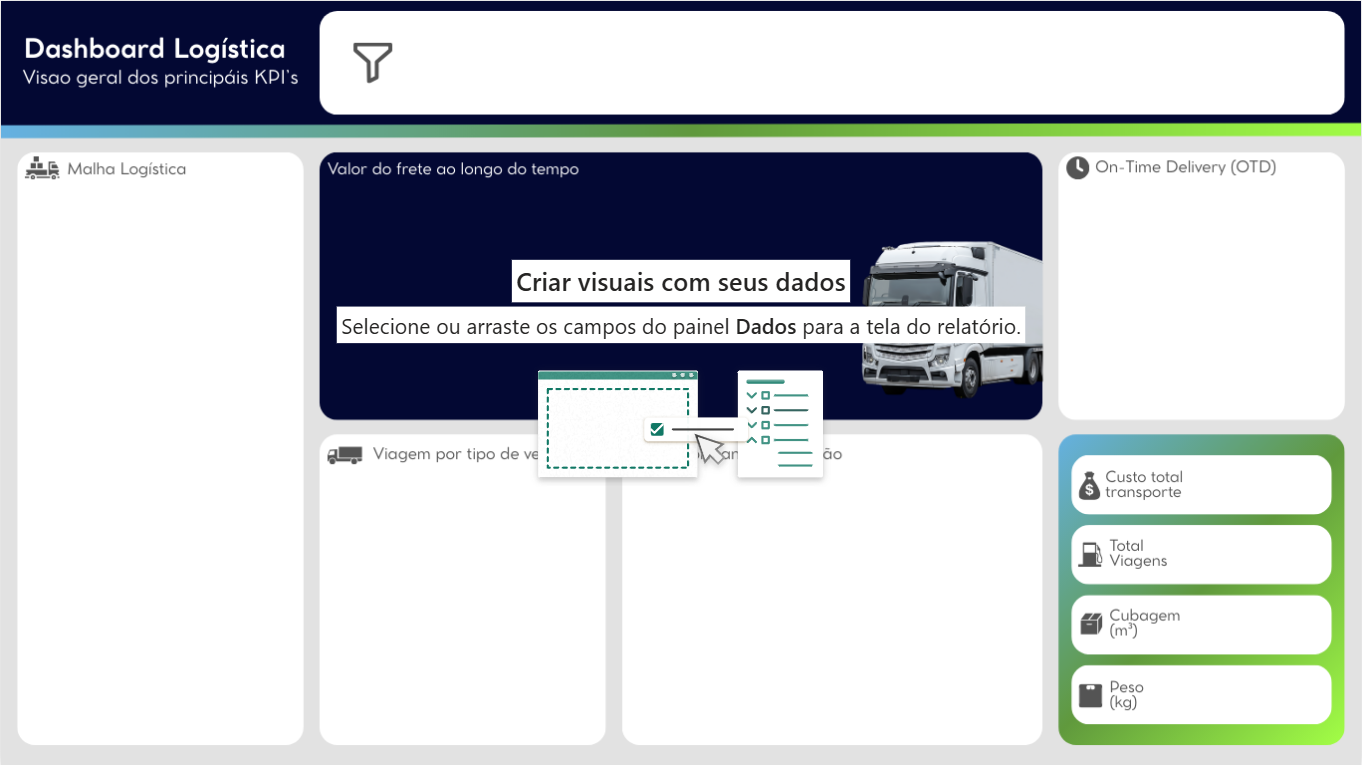

The page's visual inventory and layout, read from the dashboard file:
{"tool":"powerbi","page":{"name":"Página 1","canvas":[1280,720],"ordinal":0},"visuals":[{"type":"lineChart","fields":{"Y":["Sum(Valor do Frete. Valor do Frete )"],"Category":["Histórico Transporte.Data de Entrega.Variation.Hierarquia de datas.Ano","Histórico Transporte.Data de Entrega.Variation.Hierarquia de datas.Trimestre","Histórico Transporte.Data de Entrega.Variation.Hierarquia de datas.Mês","Histórico Transporte.Data de Entrega.Variation.Hierarquia de datas.Dia"]},"box":[312.9,165.6,506.8,229.4],"z":0},{"type":"barChart","fields":{"Y":["CountNonNull(Valor do Frete.Load)"],"Category":["Valor do Frete.Tipo de Veículo"]},"box":[301.8,429.5,265,266.3],"z":1000},{"type":"card","fields":{"Values":["Sum(Valor do Frete. Valor do Frete )"]},"box":[1100.6,429.5,159.5,50.3],"z":2000},{"type":"card","fields":{"Values":["Sum(Histórico Transporte.Cubagem (m³))"]},"box":[1100.6,562,159.5,50.3],"z":3000},{"type":"card","fields":{"Values":["Sum(Histórico Transporte.Peso Bruto (kg))"]},"box":[1100.6,627,159.5,50.3],"z":4000},{"type":"card","fields":{"Values":["Histórico Transporte.Total Viagens"]},"box":[1100.6,495.7,159.5,50.3],"z":5000},{"type":"gauge","fields":{"Y":["Medidas.% OTD"],"TargetValue":["Medidas.Meta OTD"]},"box":[1002.5,177.9,257.7,206.1],"z":6000},{"type":"hundredPercentStackedBarChart","fields":{"Category":["Histórico Transporte.Destino.2"],"Y":["Medidas.Total Viagens"],"Series":["Histórico Transporte.On-Time Delivery"]},"box":[593.9,442.9,371.8,240.5],"z":7000},{"type":"map","fields":{"Category":["Histórico Transporte.Origem-Cidade","Histórico Transporte.Destino.1"]},"box":[18.8,228.8,262.5,455],"z":8000},{"type":"slicer","fields":{"Values":["Histórico Transporte.Origem-Cidade"]},"box":[402.5,22.5,163.8,70],"z":9000},{"type":"slicer","fields":{"Values":["Histórico Transporte.Transportadora"]},"box":[575,22.5,227.5,70],"z":9001},{"type":"slicer","fields":{"Values":["Histórico Transporte.Destino.1"]},"box":[18.8,173.8,262.5,55],"z":9002},{"type":"slicer","fields":{"Values":["Histórico Transporte.Data de Entrega"]},"box":[1031.2,15,220,83.8],"z":9003},{"type":"slicer","fields":{"Values":["Valor do Frete.Tipo Transporte"]},"box":[818.8,22.5,200,70],"z":9004}]}

Visuals, with their boxes on the page's 1280x720 design canvas (x1, y1, x2, y2). These are canvas units, not pixel positions in the 1362x765 screenshot, which may show the page scaled, cropped or inside an application window:
lineChart - Sum(Valor do Frete. Valor do Frete ) x Histórico Transporte.Data de Entrega.Variation.Hierarquia de datas.Ano: {"left": 313, "top": 166, "right": 820, "bottom": 395}
barChart - CountNonNull(Valor do Frete.Load) x Valor do Frete.Tipo de Veículo: {"left": 302, "top": 430, "right": 567, "bottom": 696}
card - Sum(Valor do Frete. Valor do Frete ): {"left": 1101, "top": 430, "right": 1260, "bottom": 480}
card - Sum(Histórico Transporte.Cubagem (m³)): {"left": 1101, "top": 562, "right": 1260, "bottom": 612}
card - Sum(Histórico Transporte.Peso Bruto (kg)): {"left": 1101, "top": 627, "right": 1260, "bottom": 677}
card - Histórico Transporte.Total Viagens: {"left": 1101, "top": 496, "right": 1260, "bottom": 546}
gauge - Medidas.% OTD x Medidas.Meta OTD: {"left": 1002, "top": 178, "right": 1260, "bottom": 384}
hundredPercentStackedBarChart - Histórico Transporte.Destino.2 x Medidas.Total Viagens: {"left": 594, "top": 443, "right": 966, "bottom": 683}
map - Histórico Transporte.Origem-Cidade x Histórico Transporte.Destino.1: {"left": 19, "top": 229, "right": 281, "bottom": 684}
slicer - Histórico Transporte.Origem-Cidade: {"left": 402, "top": 22, "right": 566, "bottom": 92}
slicer - Histórico Transporte.Transportadora: {"left": 575, "top": 22, "right": 802, "bottom": 92}
slicer - Histórico Transporte.Destino.1: {"left": 19, "top": 174, "right": 281, "bottom": 229}
slicer - Histórico Transporte.Data de Entrega: {"left": 1031, "top": 15, "right": 1251, "bottom": 99}
slicer - Valor do Frete.Tipo Transporte: {"left": 819, "top": 22, "right": 1019, "bottom": 92}
